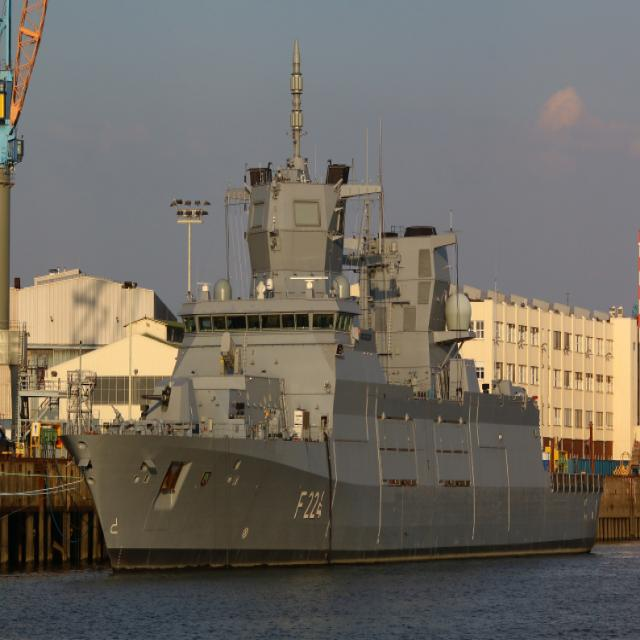Fragata: (54, 38, 605, 583)
